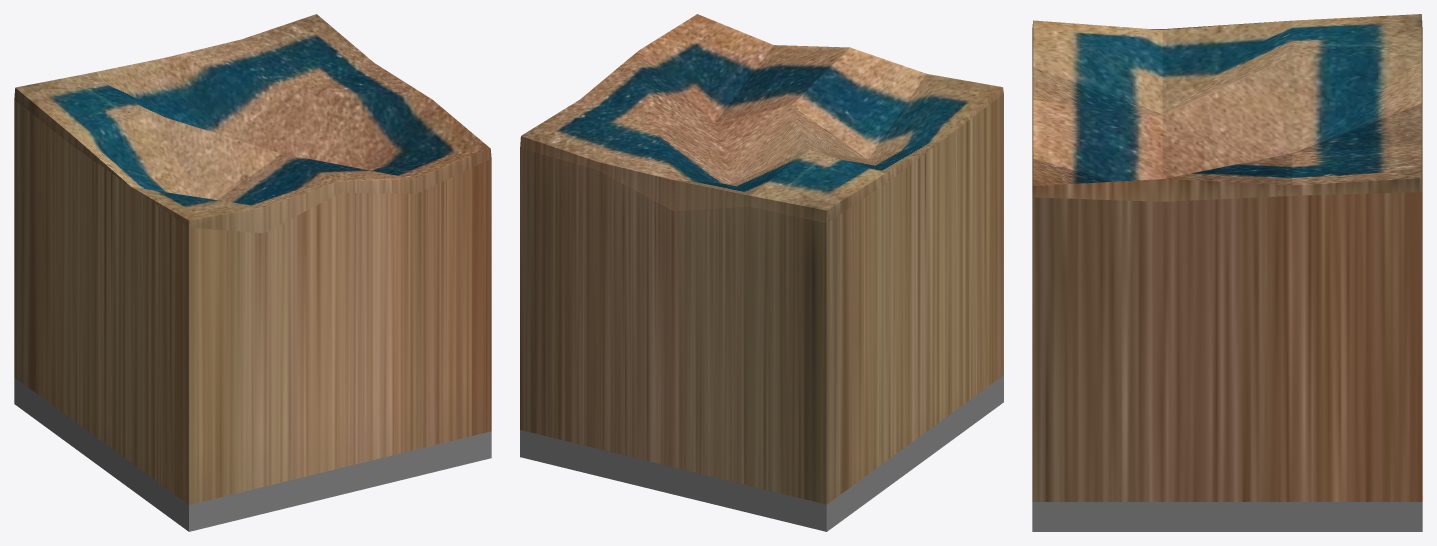
The model's file is sh-scopia-doormat.glb.
3 renders of one model, left to right at view 1: azimuth 30°, elevation 25°; view 2: azimuth 150°, elevation 25°; view 3: azimuth 270°, elevation 25°, orthographic. The views are drawn at different scales.
Visible parts, largest first — view 1: doormat_Cube.001, rubber_Cube.002; view 2: doormat_Cube.001, rubber_Cube.002; view 3: doormat_Cube.001, rubber_Cube.002.
Part boxes in pixels (left/top/right/bottom): doormat_Cube.001: left=14, top=14, right=491, bottom=504; rubber_Cube.002: left=14, top=377, right=491, bottom=531; doormat_Cube.001: left=520, top=14, right=1003, bottom=504; rubber_Cube.002: left=520, top=375, right=1003, bottom=531; doormat_Cube.001: left=1032, top=14, right=1422, bottom=501; rubber_Cube.002: left=1032, top=502, right=1422, bottom=531.
Bounding box in the file's own units: 1 × 1 × 1.
Materials: 2 (1 with a texture image).
